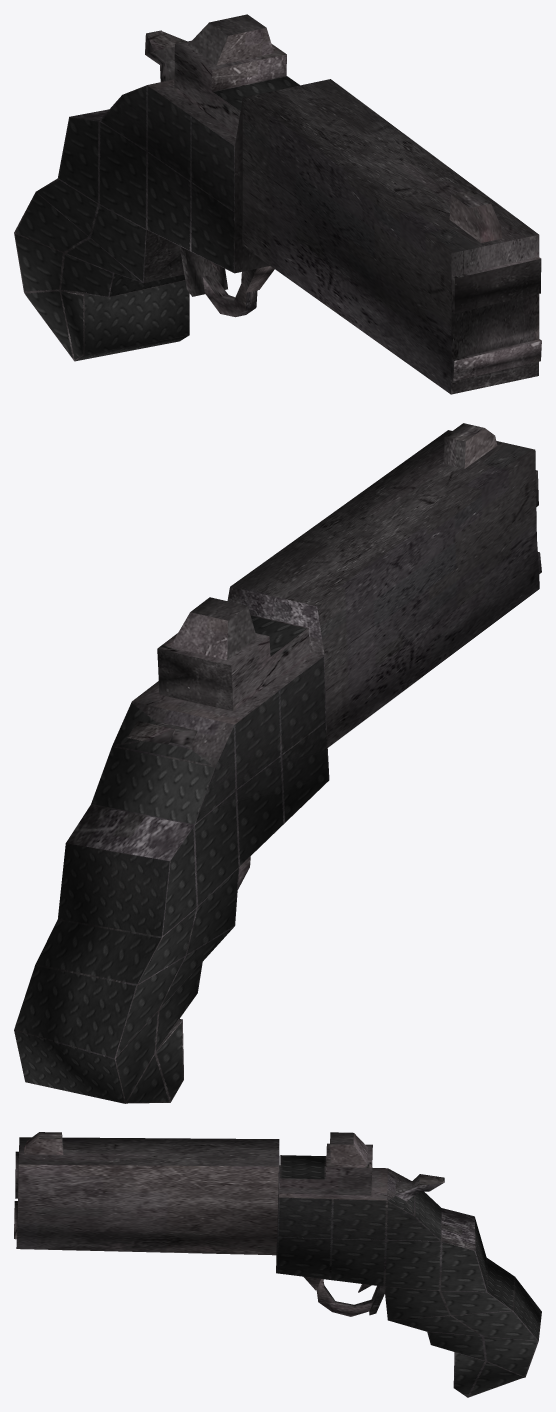
Rendered from generic.fbx.
3 renders of one model, top to bottom at view 1: azimuth 30°, elevation 25°; view 2: azimuth 150°, elevation 25°; view 3: azimuth 270°, elevation 25°, orthographic. The views are drawn at different scales.
Parts seen in each view (by area): view 1: Generic; view 2: Generic; view 3: Generic.
Part boxes in pixels (<box>): Generic: <box>14,14,541,394</box>; Generic: <box>14,423,541,1103</box>; Generic: <box>14,1132,541,1397</box>.
Bounding box in the file's own units: 31.31 × 109 × 210.
